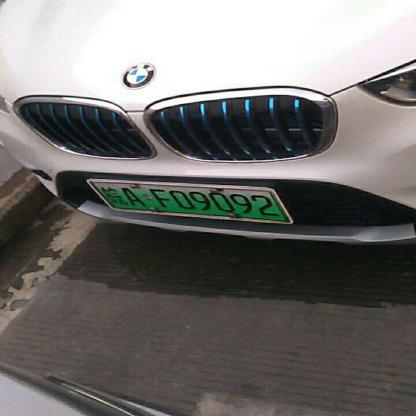lp: (91, 181, 289, 221)
